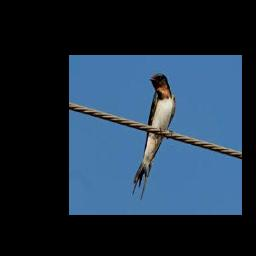Swallow: (132, 73, 176, 200)
